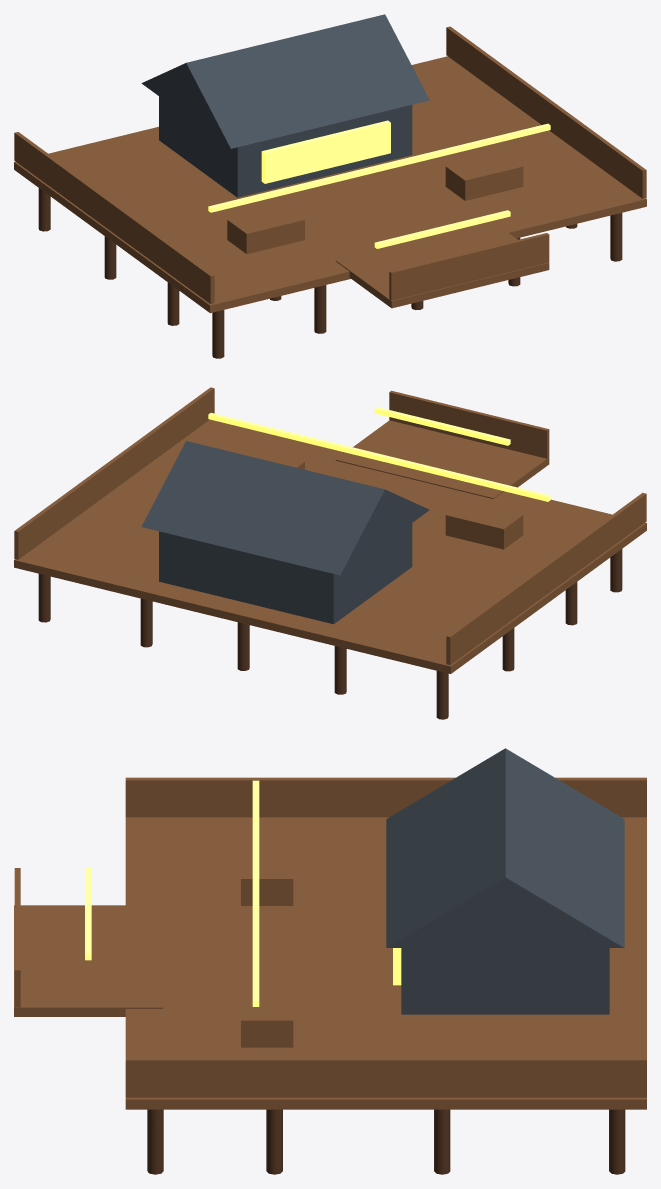
File: prop_10_cau_dat_wooden_cloud_hunting_deck.glb
3 views of the same model, one above another, from view 1: azimuth 30°, elevation 25°; view 2: azimuth 150°, elevation 25°; view 3: azimuth 270°, elevation 25° (orthographic). The views are drawn at different scales.
Visible parts, largest first — view 1: Panorama_Pine_Timber_Deck, AFrame_Coffee_Kiosk_Roof, Warm_Cafe_String_Lights, Hillside_Timber_Stilts; view 2: Panorama_Pine_Timber_Deck, AFrame_Coffee_Kiosk_Roof, Hillside_Timber_Stilts, Warm_Cafe_String_Lights; view 3: Panorama_Pine_Timber_Deck, AFrame_Coffee_Kiosk_Roof, Hillside_Timber_Stilts, Warm_Cafe_String_Lights.
Part boxes in pixels (box(x1,y1,x2,y2)): Panorama_Pine_Timber_Deck: box(14, 26, 646, 313); AFrame_Coffee_Kiosk_Roof: box(141, 14, 429, 197); Warm_Cafe_String_Lights: box(208, 120, 550, 248); Hillside_Timber_Stilts: box(38, 188, 622, 358); Panorama_Pine_Timber_Deck: box(14, 387, 646, 673); AFrame_Coffee_Kiosk_Roof: box(141, 441, 429, 624); Hillside_Timber_Stilts: box(38, 549, 622, 719); Warm_Cafe_String_Lights: box(208, 407, 550, 501); Panorama_Pine_Timber_Deck: box(14, 777, 646, 1109); AFrame_Coffee_Kiosk_Roof: box(386, 748, 624, 1014); Hillside_Timber_Stilts: box(147, 1109, 625, 1174); Warm_Cafe_String_Lights: box(85, 780, 401, 1006).
Size of the model in its own units: 18 by 6.8 by 17.
